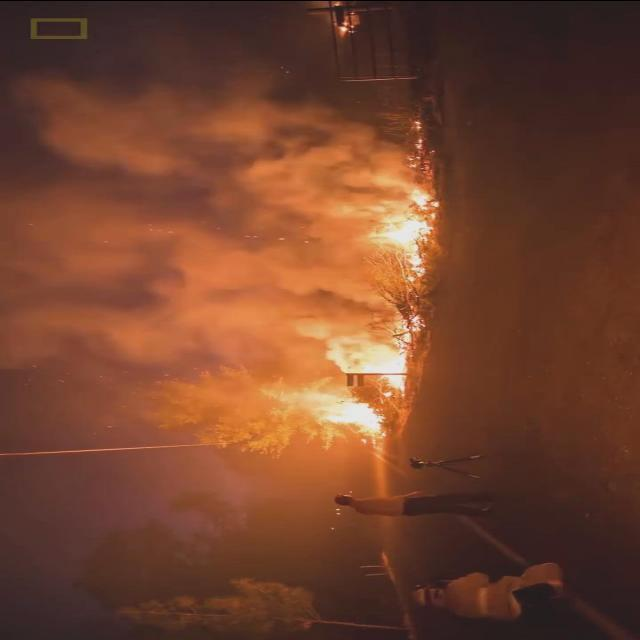Fire: (352, 190, 442, 280), (312, 315, 425, 384), (293, 391, 387, 435), (406, 118, 423, 168), (336, 21, 351, 31)
